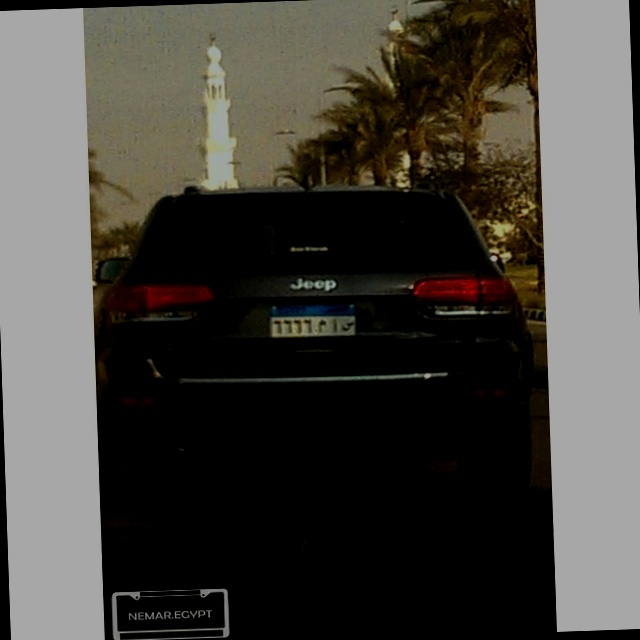License Plate: (266, 298, 363, 342)
